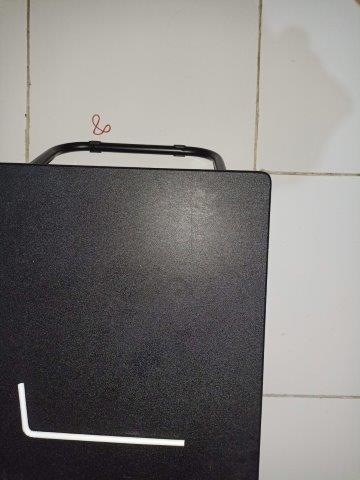karet: (91, 113, 112, 136)
sedotan: (18, 382, 184, 448)
